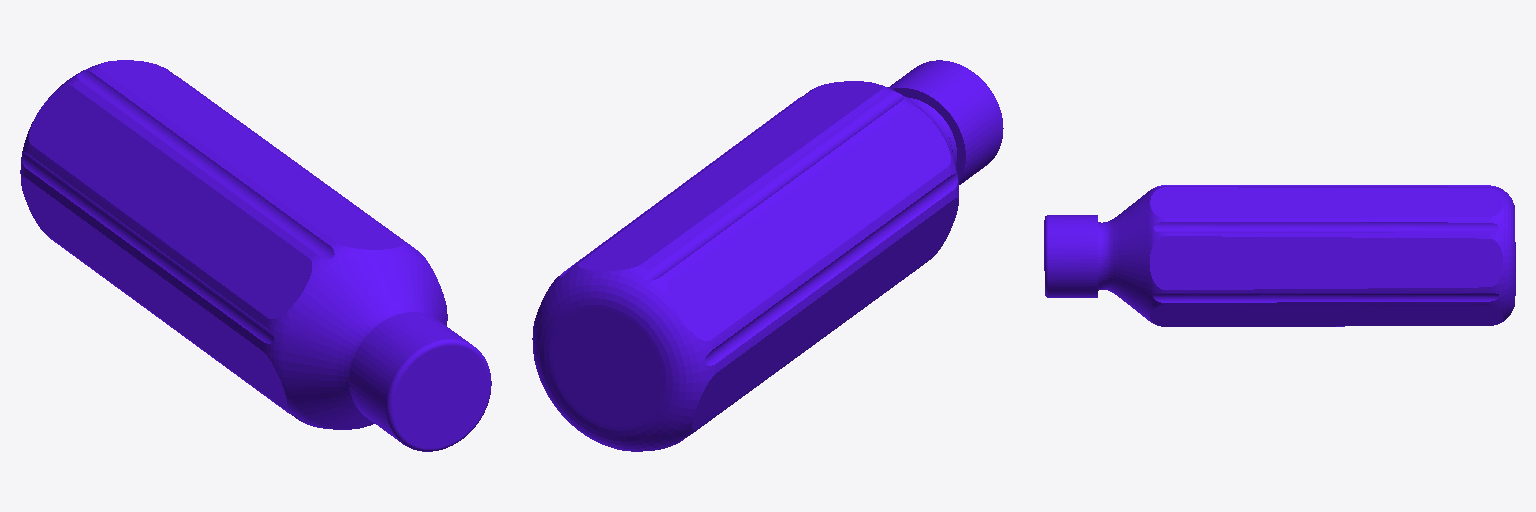
URDF robot description (plastic_water_bottle):
<?xml version="1.0" encoding="utf-8"?>
<!-- This URDF was automatically created by SolidWorks to URDF Exporter! Originally created by [author] ([email redacted]) 
     Commit Version: 1.6.0-4-g7f85cfe  Build Version: 1.6.7995.38578
     For more information, please see http://wiki.ros.org/sw_urdf_exporter -->
<robot
  name="plastic_water_bottle">
  <link
    name="base_link">
    <inertial>
      <origin
        xyz="0.10257 0.13653 0.15249"
        rpy="0 0 0" />
      <mass
        value="0.99367" />
      <inertia
        ixx="0.0042756"
        ixy="-1.1857E-08"
        ixz="-2.4905E-06"
        iyy="0.0042755"
        iyz="6.572E-09"
        izz="0.00070555" />
    </inertial>
    <visual>
      <origin
        xyz="0 0 0"
        rpy="0 0 0" />
      <geometry>
        <mesh
          filename="package://plastic_water_bottle/meshes/base_link.STL" />
      </geometry>
      <material
        name="plastic">
        <color
          rgba="0.41176 0.13333 0.96863 0.8" />
      </material>
    </visual>
    <collision>
      <origin
        xyz="0 0 0"
        rpy="0 0 0" />
      <geometry>
        <mesh
          filename="package://plastic_water_bottle/meshes/base_link.STL" />
      </geometry>
    </collision>
  </link>
  <link
    name="link1">
    <inertial>
      <origin
        xyz="0.00039999 1.3626E-08 0.24775"
        rpy="0 0 0" />
      <mass
        value="0.053414" />
      <inertia
        ixx="1.1543E-05"
        ixy="-2.1688E-10"
        ixz="9.6644E-10"
        iyy="1.1542E-05"
        iyz="9.8098E-12"
        izz="1.3968E-05" />
    </inertial>
    <visual>
      <origin
        xyz="0 0 0"
        rpy="0 0 0" />
      <geometry>
        <mesh
          filename="package://plastic_water_bottle/meshes/link1.STL" />
      </geometry>
      <material
        name="platic01">
        <color
          rgba="0.41176 0.13333 0.96863 1" />
      </material>
    </visual>
    <collision>
      <origin
        xyz="0 0 0"
        rpy="0 0 0" />
      <geometry>
        <mesh
          filename="package://plastic_water_bottle/meshes/link1.STL" />
      </geometry>
    </collision>
  </link>
  <joint
    name="joint1"
    type="fixed">
    <origin
      xyz="0.10237 -0.042427 0.13625"
      rpy="1.5708 0 0" />
    <parent
      link="base_link" />
    <child
      link="link1" />
    <axis
      xyz="0 0 0" />
  </joint>
</robot>

--- What the picture shows (computed from the rendered views, not written in the file) ---
Views: 3 orthographic renders of the robot side by side, from view 1: azimuth 30°, elevation 25°; view 2: azimuth 150°, elevation 25°; view 3: azimuth 270°, elevation 25°.
Robot: plastic_water_bottle — 2 links, 1 joints (1 fixed); root link base_link; default pose: every joint at zero.
Links seen in each view (by area): view 1: base_link, link1; view 2: base_link, link1; view 3: base_link, link1.
Link boxes in pixels (x1,y1,x2,y2): base_link: [20, 60, 447, 429]; link1: [349, 312, 491, 451]; base_link: [532, 81, 958, 451]; link1: [888, 60, 1003, 184]; base_link: [1103, 185, 1515, 326]; link1: [1044, 215, 1102, 297].
Size in the robot's own frame: 0.0794 by 0.2639 by 0.0783 metres.
2 mesh visuals loaded from 2 distinct referenced files (2 binary STL).